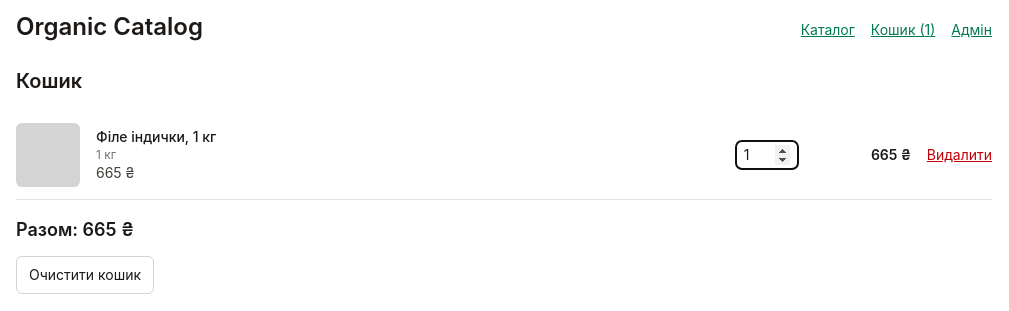
BasketPage › Quantity input keeps focus across an update
The width and height of the screenshot is (1009, 311).
Replace the text in the number field named "Кількість" with "2" at [767, 155], box [735, 140, 799, 170]
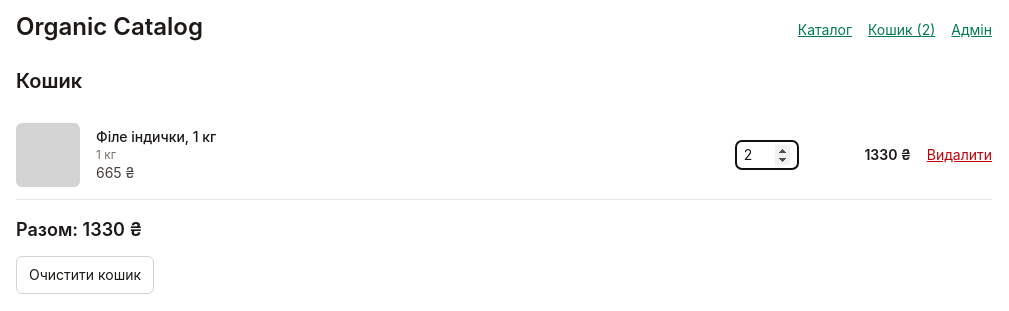
Result: the text "Разом: 1330 ₴" is shown at [16, 219, 142, 240]
